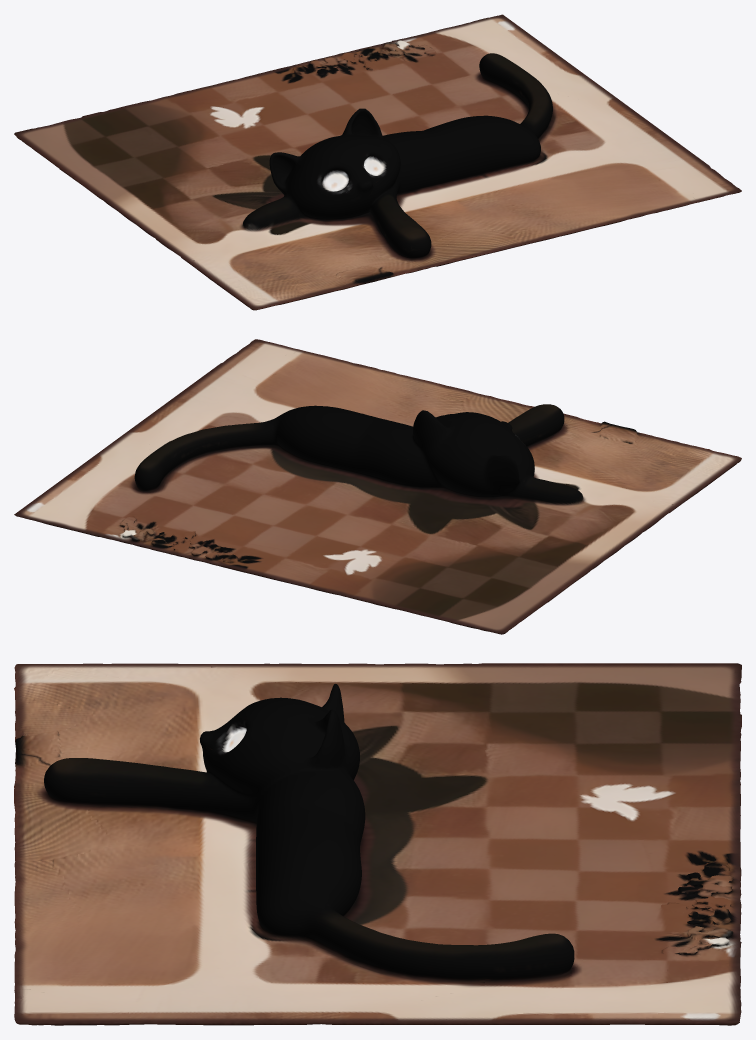
The model's file is 厕所地毯 (3).fbx.
3 renders of one model, top to bottom at view 1: azimuth 30°, elevation 25°; view 2: azimuth 150°, elevation 25°; view 3: azimuth 270°, elevation 25°, orthographic. The views are drawn at different scales.
Parts seen in each view (by area): view 1: model; view 2: model; view 3: model.
Boxes of the visible parts, left/top/right/bottom form: model: left=14, top=14, right=741, bottom=310; model: left=14, top=339, right=741, bottom=634; model: left=14, top=663, right=741, bottom=1025.
Bounding box in the file's own units: 175 × 25.69 × 150.
